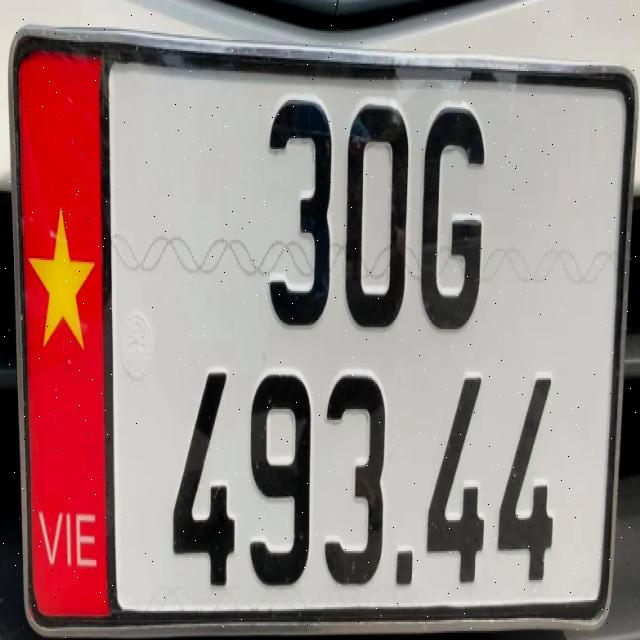0: (342, 89, 408, 339)
3: (264, 89, 335, 336), (324, 357, 388, 587)
4: (167, 369, 240, 595), (420, 365, 488, 587), (495, 361, 560, 587)
9: (246, 368, 314, 593)
G: (420, 96, 488, 336)
